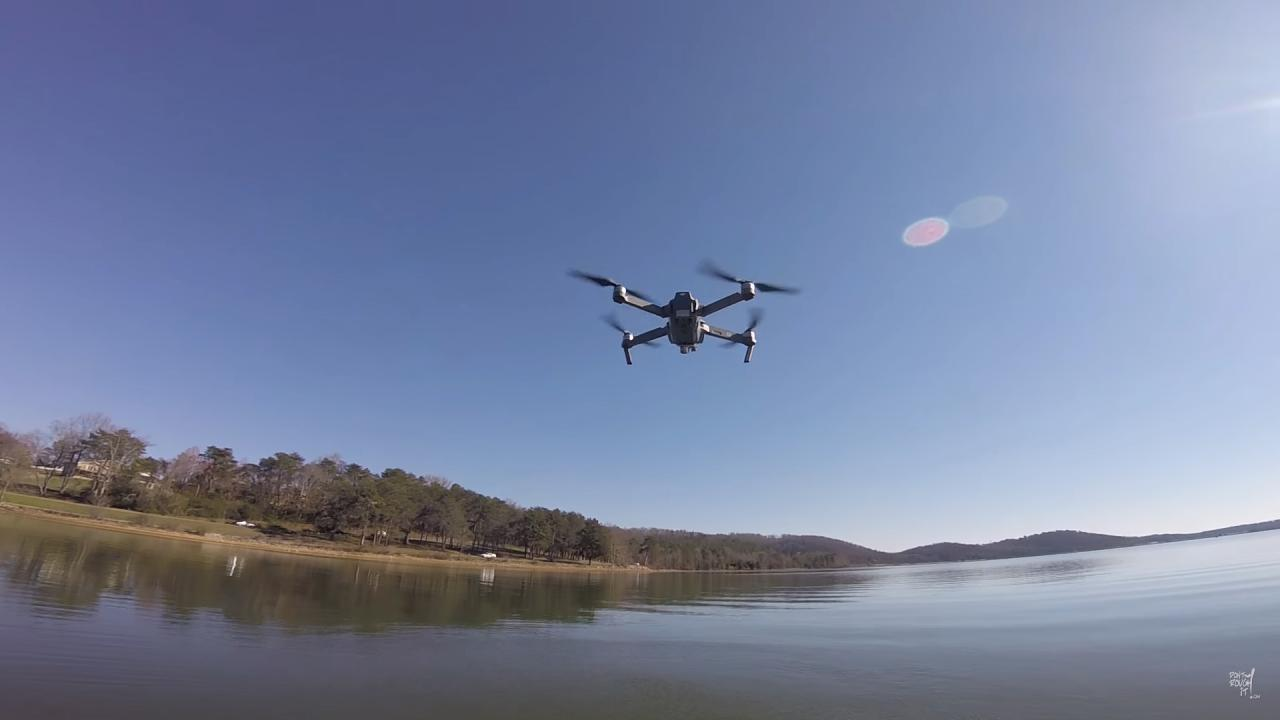Drone: (555, 242, 815, 385)
